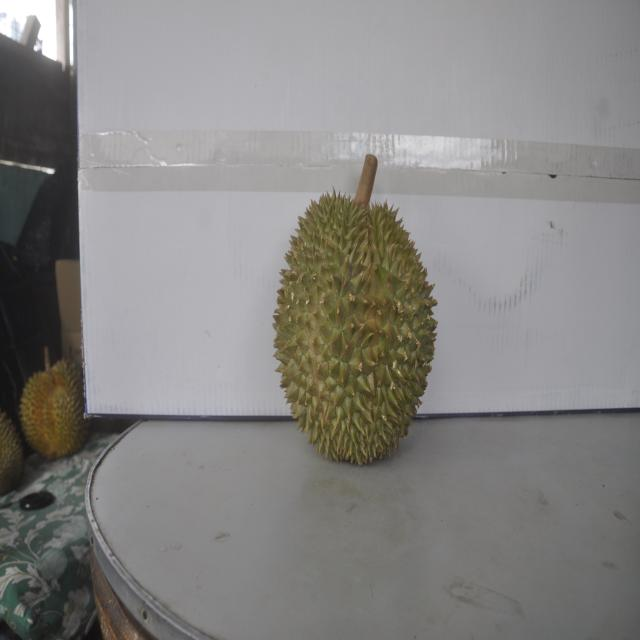mature: (273, 171, 435, 467), (19, 355, 90, 460), (0, 406, 25, 495)
